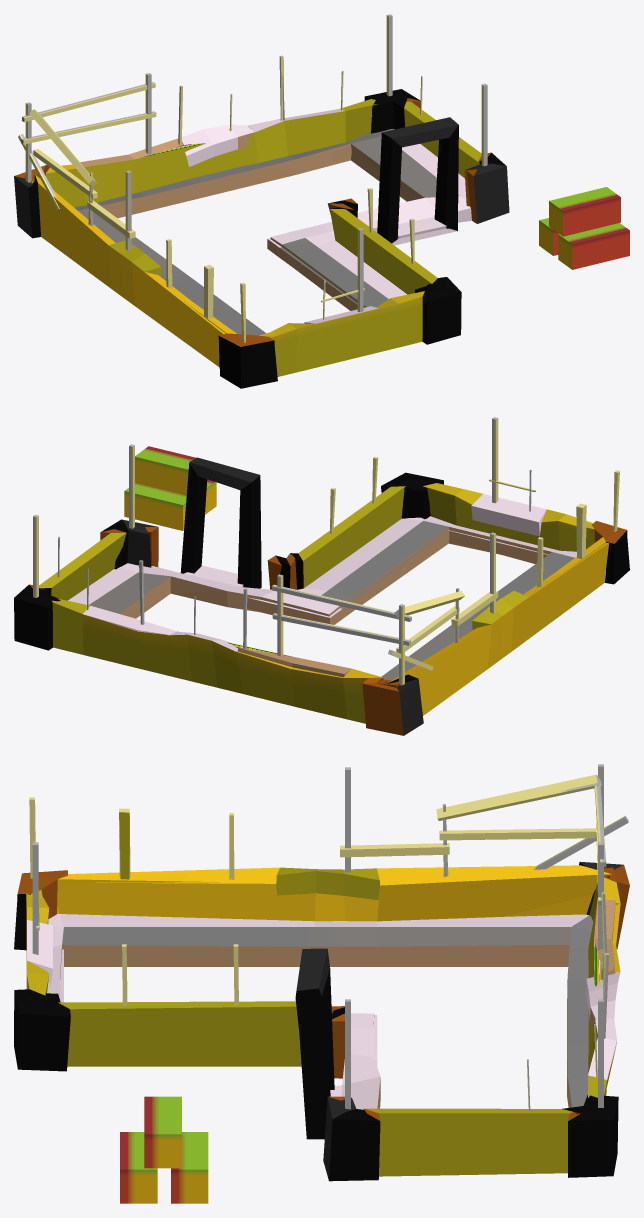
Rendered from HouseBuilding.fbx.
The picture shows the model from 3 angles, top to bottom: view 1: azimuth 30°, elevation 25°; view 2: azimuth 150°, elevation 25°; view 3: azimuth 270°, elevation 25°; orthographic projection. The views are drawn at different scales.
Visible parts, largest first — view 1: Cube.004; view 2: Cube.004; view 3: Cube.004.
Part boxes in pixels (x1,y1,x2,y2): Cube.004: [14, 14, 629, 388]; Cube.004: [14, 417, 629, 735]; Cube.004: [14, 764, 629, 1203].
Bounding box in the file's own units: 369 × 106 × 342.
